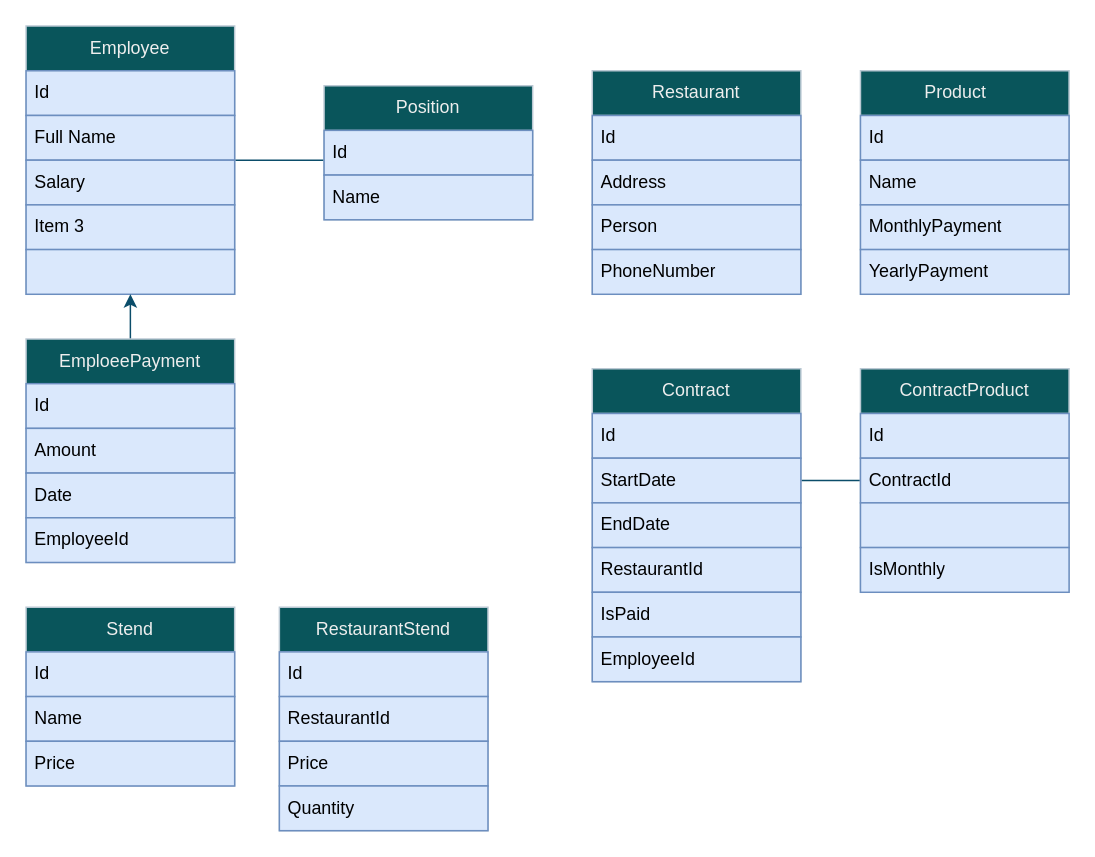
Some shapes in this 1095 by 857 pixel diagram are drawn without their labels. Each missing label, with the centre of its shape:
"PositionId" goes at (x=130, y=271).
"ProductId" goes at (x=964, y=524).
